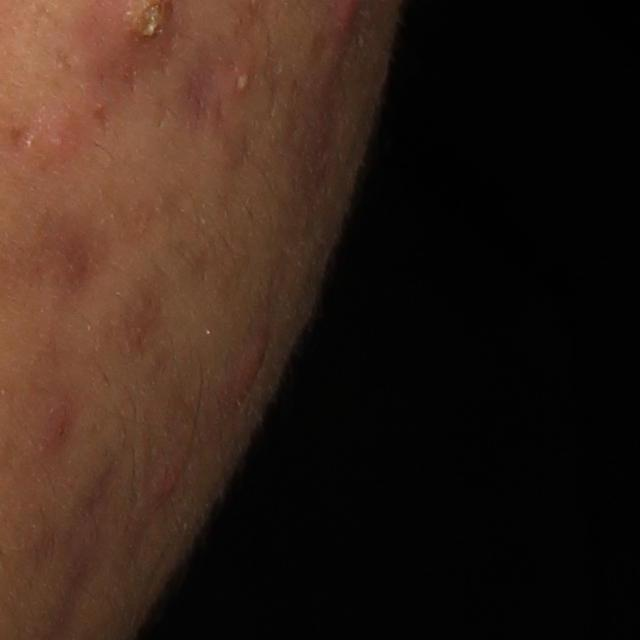atrophic_scar: (60, 464, 114, 631), (188, 31, 243, 119), (2, 108, 40, 161)
papule: (231, 305, 270, 406), (150, 434, 188, 514)
pustule: (229, 65, 255, 97)
